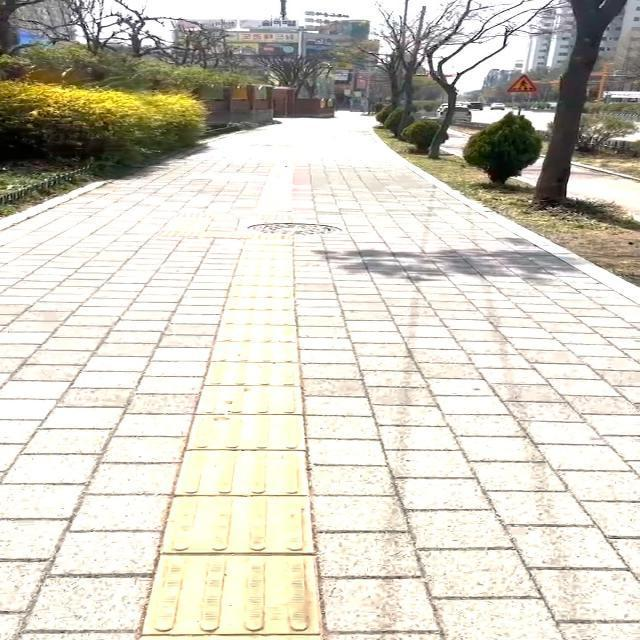Sewer Cover: (231, 215, 349, 248)
